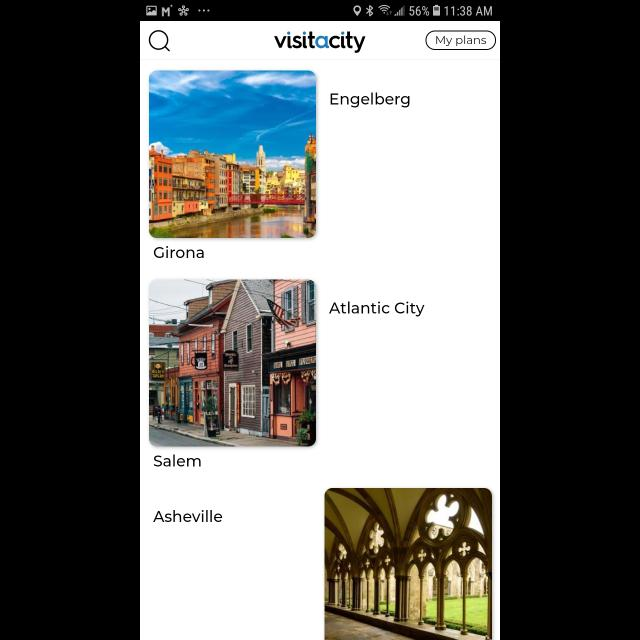icon: (149, 30, 171, 52)
image: (150, 70, 316, 238), (150, 279, 316, 446), (324, 488, 492, 640), (274, 31, 366, 53)
text: (329, 302, 425, 316), (330, 92, 410, 108), (154, 510, 222, 522), (154, 246, 204, 258), (154, 454, 202, 466)
textbutton: (424, 30, 496, 50)
uppertaskbar: (140, 1, 500, 22)
